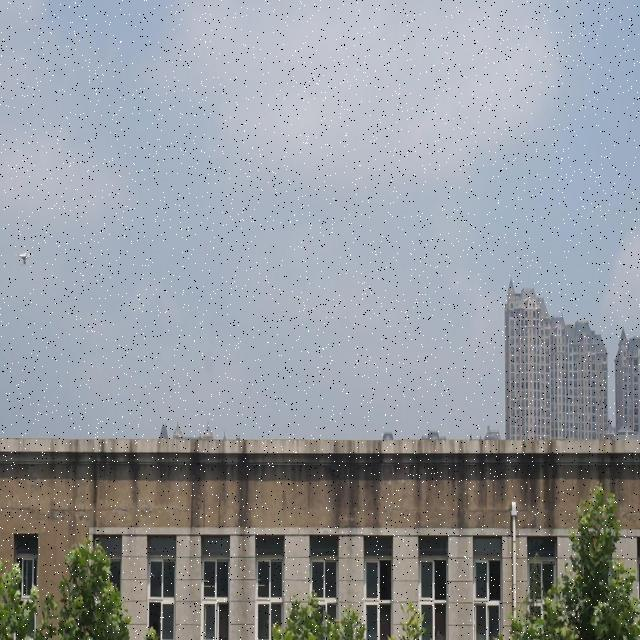UAV: (14, 252, 33, 265)
